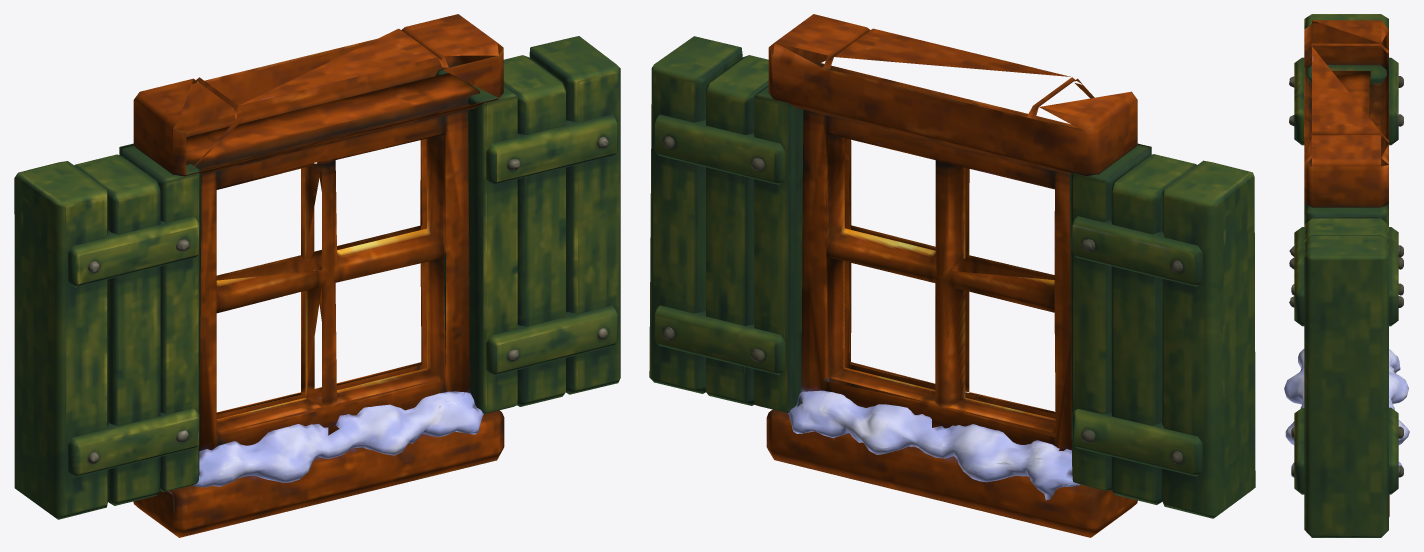
The model's file is HK_window.glb.
3 views of the same model, side by side, from view 1: azimuth 30°, elevation 25°; view 2: azimuth 150°, elevation 25°; view 3: azimuth 270°, elevation 25° (orthographic). The views are drawn at different scales.
Parts seen in each view (by area): view 1: geometry_0; view 2: geometry_0; view 3: geometry_0.
Part boxes in pixels (x1,y1,x2,y2): geometry_0: (14, 14, 620, 537); geometry_0: (649, 14, 1255, 537); geometry_0: (1284, 14, 1409, 537).
Size of the model in its own units: 0.9575 by 0.6714 by 0.207.
Materials: 1 (1 with a texture image).
